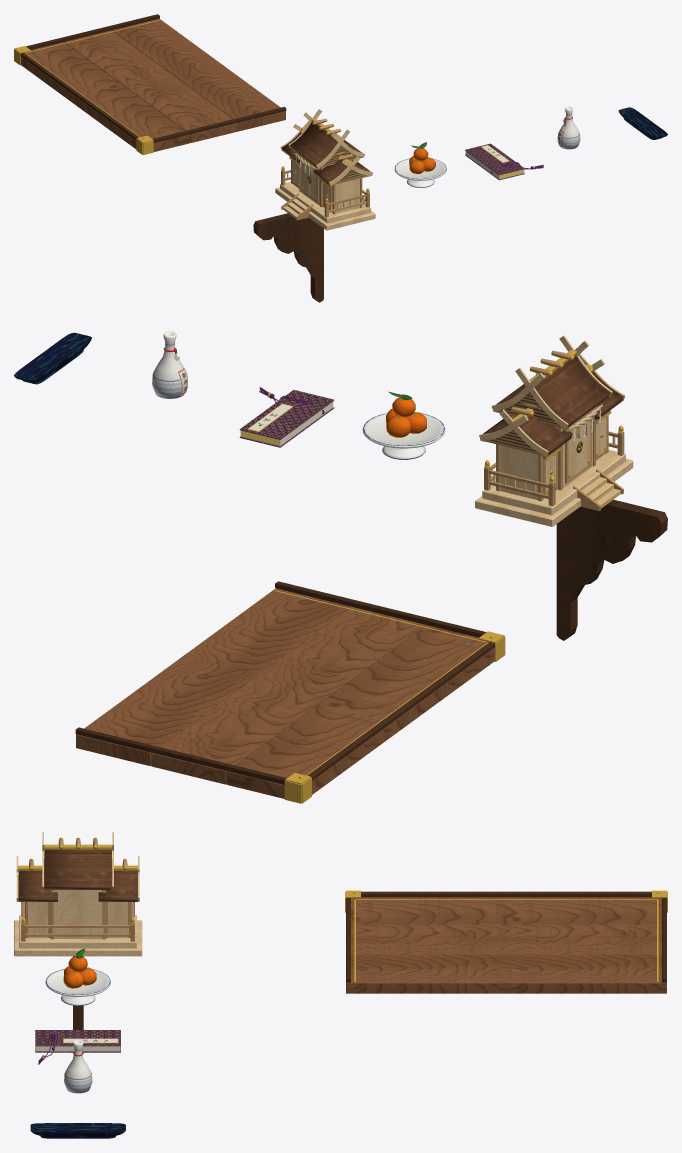
File: kamidana.glb
3 views of the same model, one above another, from view 1: azimuth 30°, elevation 25°; view 2: azimuth 150°, elevation 25°; view 3: azimuth 270°, elevation 25° (orthographic). The views are drawn at different scales.
Parts seen in each view (by area): view 1: KamiJ79Part, KamiJ80Part, KamiJ81Part, KamiJ1Part, KamiJ84Part, KamiJ28Part, KamiJ20Part, KamiJ7Part, KamiJ73Part, KamiJ22Part, KamiJ57Part, KamiJ82Line (+6 smaller); view 2: KamiJ79Part, KamiJ81Part, KamiJ80Part, KamiJ1Part, KamiJ84Part, KamiJ28Part, KamiJ7Part, KamiJ73Part, KamiJ57Part, KamiJ82Line, KamiJ20Part, KamiJ13Part (+8 smaller); view 3: KamiJ81Part, KamiJ80Part, KamiJ79Part, KamiJ28Part, KamiJ84Part, KamiJ7Part, KamiJ13Part, KamiJ20Part, KamiJ2Part, KamiJ73Part, KamiJ57Part, KamiJ12Part (+5 smaller).
Boxes of the visible parts, x1,y1,x2,y2 form: KamiJ79Part: [20, 42, 190, 151]; KamiJ80Part: [64, 30, 238, 142]; KamiJ81Part: [112, 18, 285, 131]; KamiJ1Part: [253, 213, 323, 302]; KamiJ84Part: [20, 14, 286, 143]; KamiJ28Part: [282, 122, 370, 184]; KamiJ20Part: [275, 178, 375, 230]; KamiJ7Part: [280, 160, 370, 223]; KamiJ73Part: [465, 143, 524, 180]; KamiJ22Part: [280, 121, 372, 185]; KamiJ57Part: [394, 158, 446, 187]; KamiJ82Line: [14, 20, 159, 154]; KamiJ79Part: [226, 625, 494, 798]; KamiJ81Part: [76, 588, 350, 765]; KamiJ80Part: [151, 606, 425, 784]; KamiJ1Part: [556, 499, 667, 640]; KamiJ84Part: [75, 581, 494, 784]; KamiJ28Part: [482, 355, 623, 454]; KamiJ7Part: [482, 443, 625, 515]; KamiJ73Part: [239, 390, 334, 447]; KamiJ57Part: [362, 413, 445, 459]; KamiJ82Line: [274, 590, 505, 803]; KamiJ20Part: [475, 416, 633, 526]; KamiJ13Part: [500, 427, 606, 499]; KamiJ81Part: [346, 954, 666, 993]; KamiJ80Part: [351, 925, 661, 953]; KamiJ79Part: [351, 897, 661, 924]; KamiJ28Part: [18, 849, 137, 901]; KamiJ84Part: [346, 891, 666, 982]; KamiJ7Part: [19, 902, 136, 948]; KamiJ13Part: [53, 890, 102, 938]; KamiJ20Part: [14, 920, 142, 956]; KamiJ2Part: [30, 1123, 125, 1138]; KamiJ73Part: [35, 1030, 120, 1052]; KamiJ57Part: [45, 969, 110, 1005]; KamiJ12Part: [21, 902, 134, 941].
Size of the model in its own units: 1.62 by 0.6874 by 1.83.
27 materials, 19 textured.
